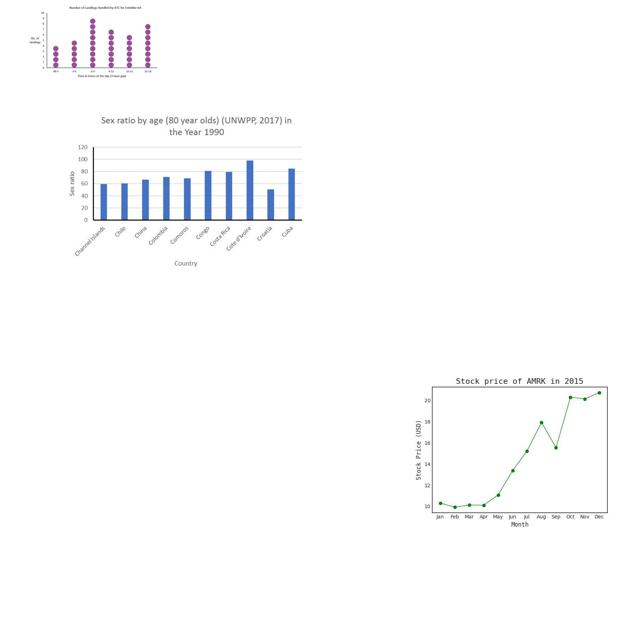Graph: (61, 111, 305, 271), (404, 364, 630, 534), (25, 3, 160, 81)
